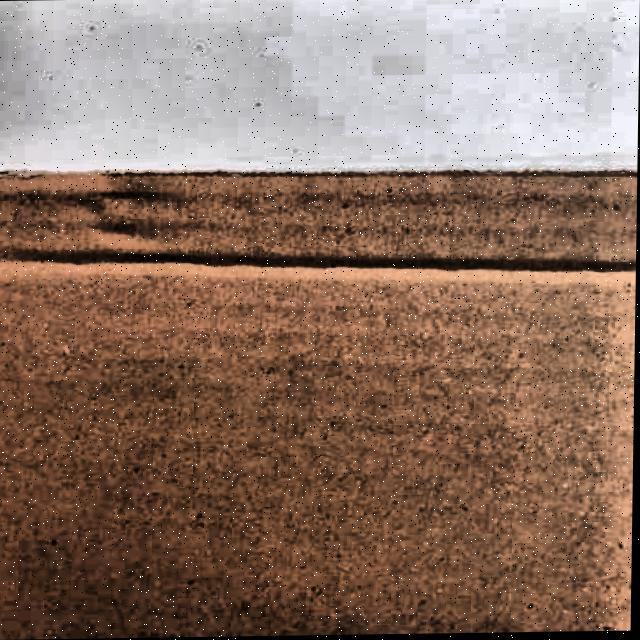cardboard: (0, 160, 637, 640)
